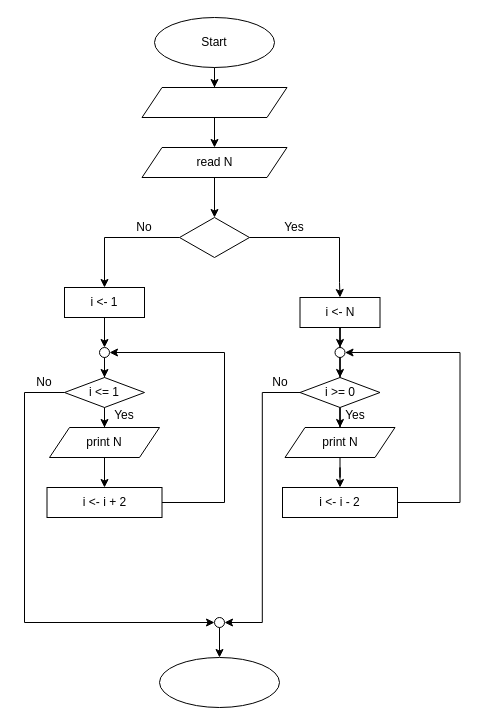
This 486x725 diagram has some shape labels left out. Here are the shapes that lost their labels. From the top down, the centre of each, then its label:
At point (214, 102): "input N".
At point (214, 237): "N is even number?".
At point (219, 682): "End".
